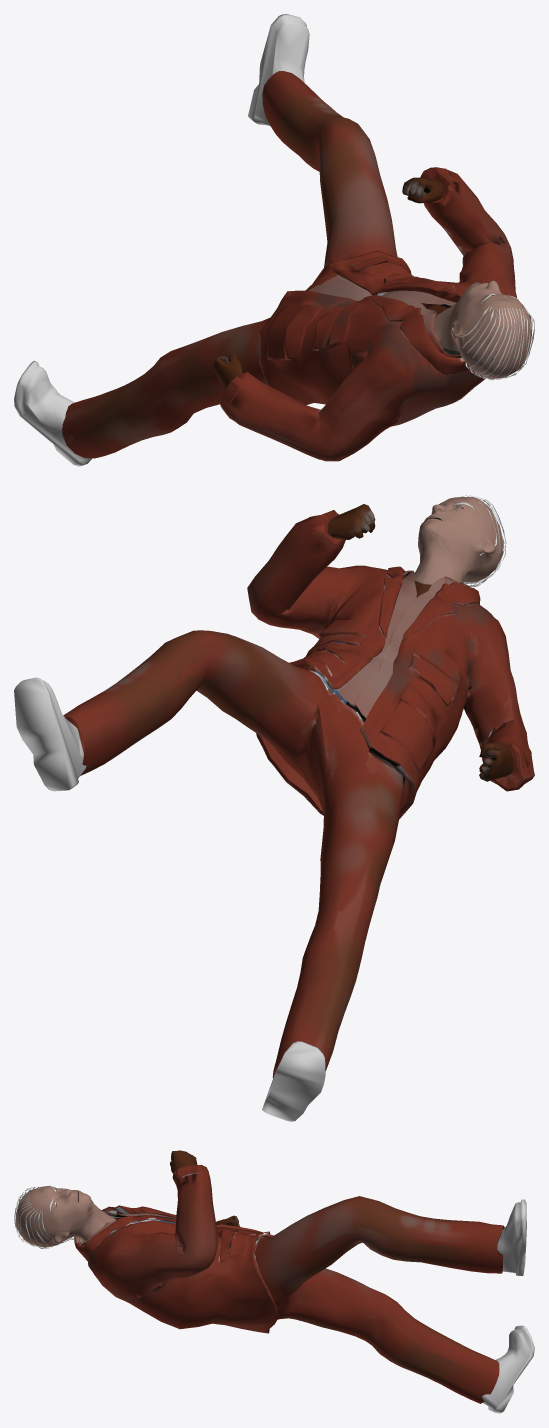
Rendered from Thug.obj.
3 renders of one model, top to bottom at view 1: azimuth 30°, elevation 25°; view 2: azimuth 150°, elevation 25°; view 3: azimuth 270°, elevation 25°, orthographic. The views are drawn at different scales.
Parts seen in each view (by area): view 1: male_casualsuit05.obj; view 2: male_casualsuit05.obj; view 3: male_casualsuit05.obj.
Part boxes in pixels (<box>): male_casualsuit05.obj: <box>14,14,534,466</box>; male_casualsuit05.obj: <box>14,495,534,1121</box>; male_casualsuit05.obj: <box>14,1150,534,1413</box>.
Bounding box in the file's own units: 7.94 × 10.44 × 15.8.
